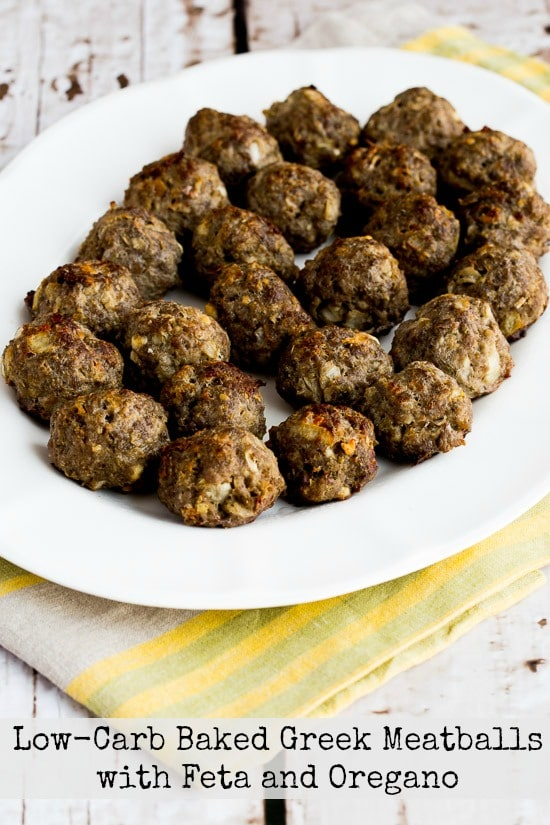meatballs: (8, 95, 543, 524)
